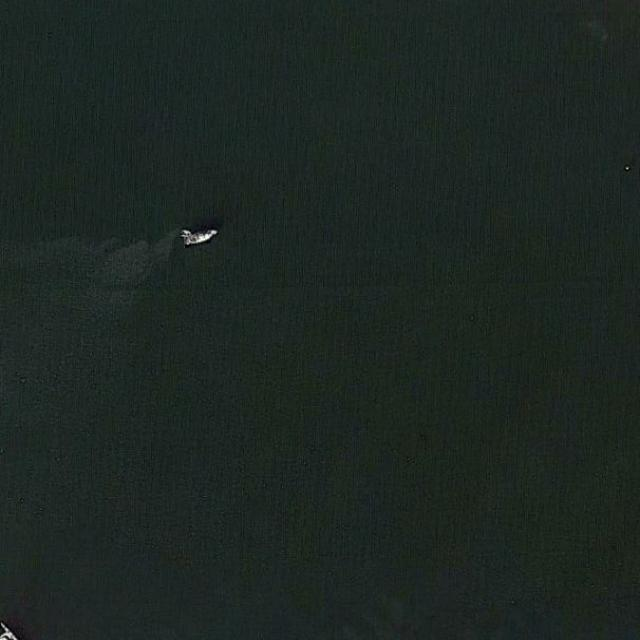ship: (173, 216, 224, 251)
